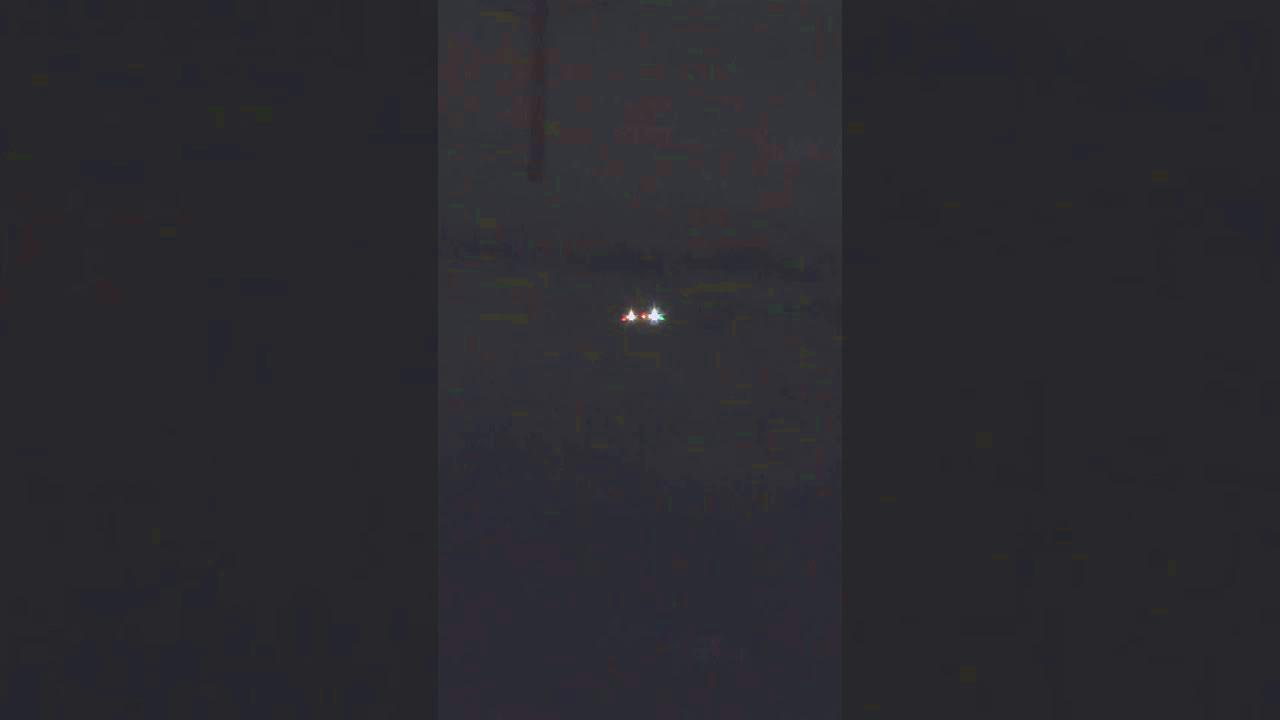Plane: (584, 290, 704, 341)
